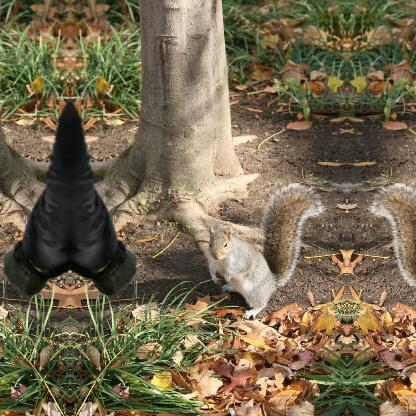Squirrel: (204, 180, 326, 326), (365, 180, 415, 327)
